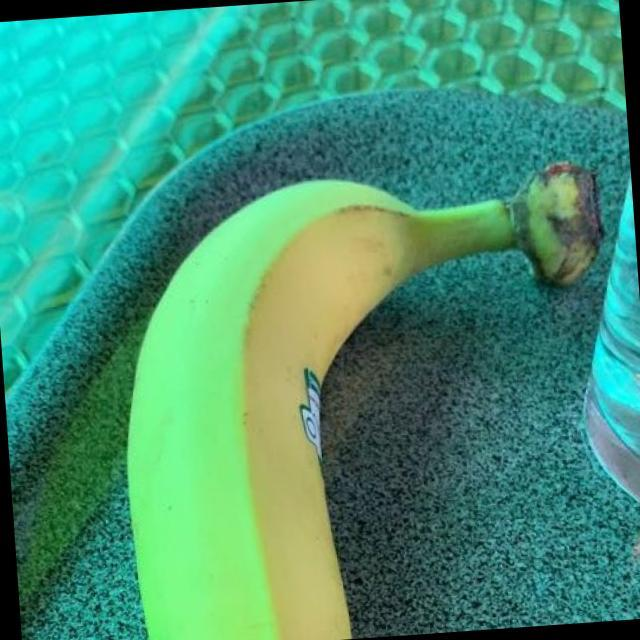Banana: (93, 141, 635, 640)
